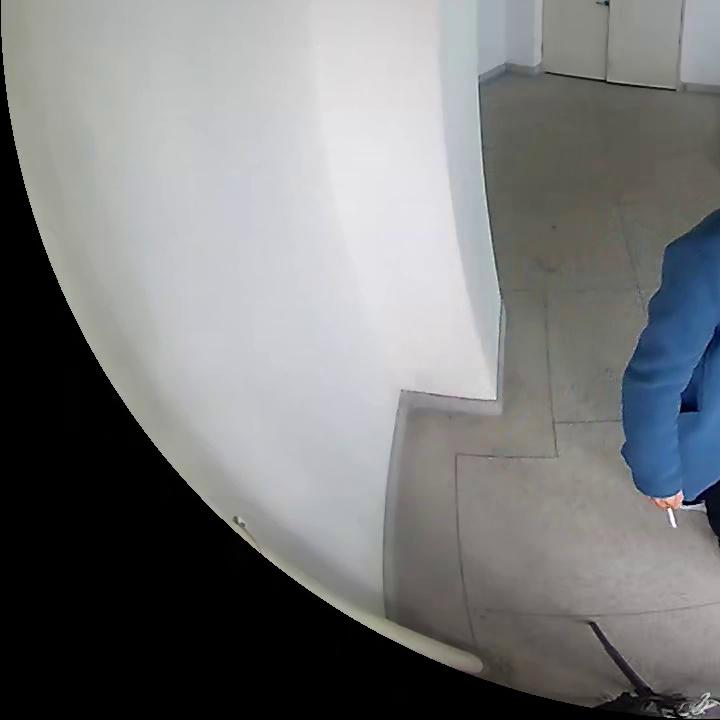handsmoke: (657, 497, 682, 530)
